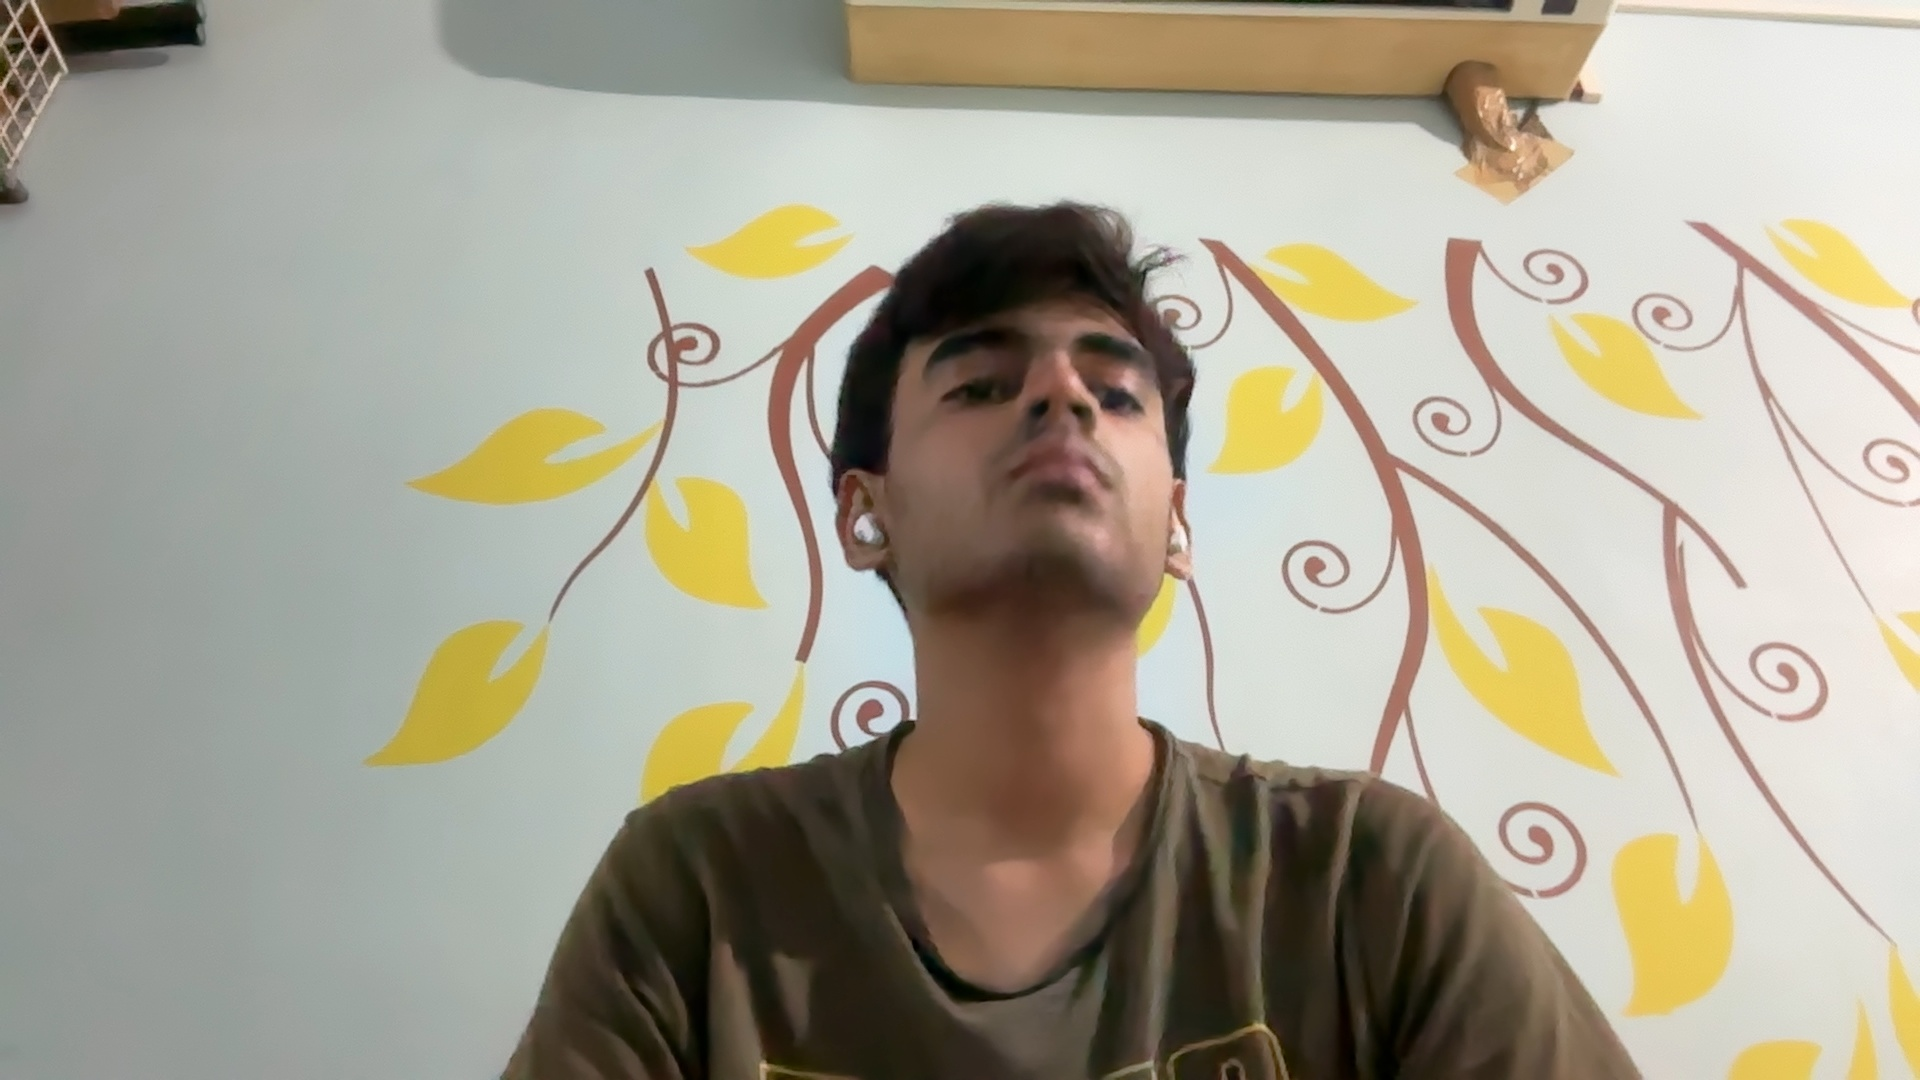No Mask: (929, 395, 1170, 655)
